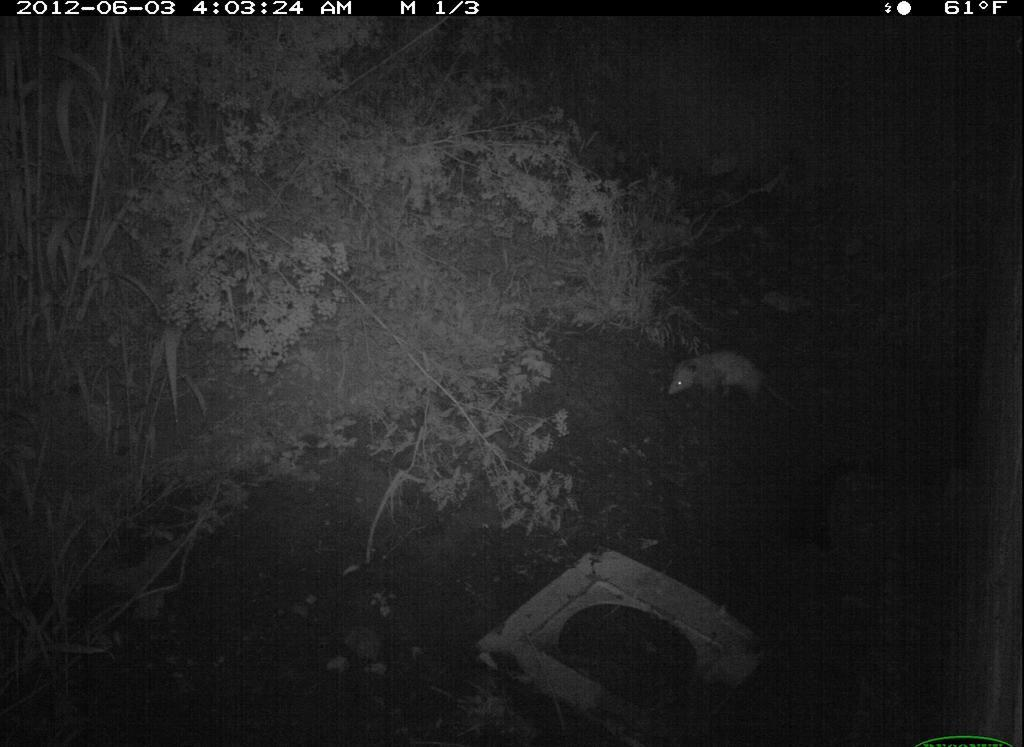opossum: (660, 349, 816, 423)
